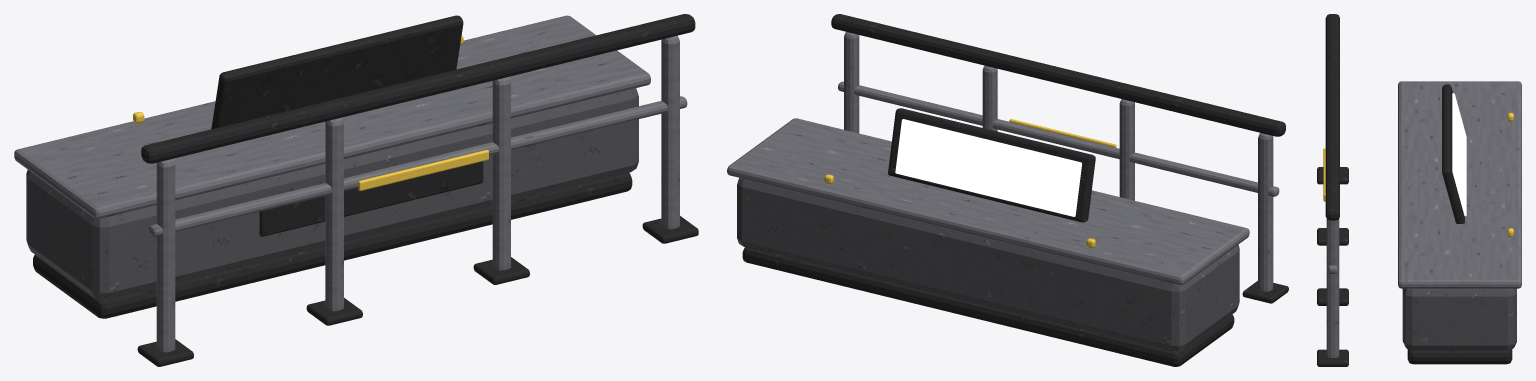
Rendered from decor_bridge_tactical_rail.glb.
The picture shows the model from 3 angles, left to right: view 1: azimuth 30°, elevation 25°; view 2: azimuth 150°, elevation 25°; view 3: azimuth 270°, elevation 25°; orthographic projection. The views are drawn at different scales.
Parts seen in each view (by area): view 1: DEC_BridgeTacticalRail__Plinth_Body, DEC_BridgeTacticalRail__Plinth_Top, DEC_BridgeTacticalRail__Repeater_Bezel, DEC_BridgeTacticalRail__Rail_Top, DEC_BridgeTacticalRail__Plinth_Kick, DEC_BridgeTacticalRail__Rail_Mid, DEC_BridgeTacticalRail__Plinth_Vent, DEC_BridgeTacticalRail__Stanchion_-136, DEC_BridgeTacticalRail__Stanchion_136, DEC_BridgeTacticalRail__Stanchion_-45, DEC_BridgeTacticalRail__Stanchion_45, DEC_BridgeTacticalRail__Rail_Hazard (+4 smaller); view 2: DEC_BridgeTacticalRail__Plinth_Body, DEC_BridgeTacticalRail__Plinth_Top, DEC_BridgeTacticalRail__Repeater_Glow, DEC_BridgeTacticalRail__Rail_Top, DEC_BridgeTacticalRail__Plinth_Kick, DEC_BridgeTacticalRail__Rail_Mid, DEC_BridgeTacticalRail__Repeater_Bezel, DEC_BridgeTacticalRail__Stanchion_-136, DEC_BridgeTacticalRail__Stanchion_-45, DEC_BridgeTacticalRail__Stanchion_136, DEC_BridgeTacticalRail__Stanchion_45, DEC_BridgeTacticalRail__Stanchion_Foot_-136; view 3: DEC_BridgeTacticalRail__Plinth_Top, DEC_BridgeTacticalRail__Plinth_Body, DEC_BridgeTacticalRail__Rail_Top, DEC_BridgeTacticalRail__Stanchion_136, DEC_BridgeTacticalRail__Plinth_Kick, DEC_BridgeTacticalRail__Repeater_Bezel, DEC_BridgeTacticalRail__Repeater_Glow, DEC_BridgeTacticalRail__Stanchion_Foot_136, DEC_BridgeTacticalRail__Stanchion_Foot_45, DEC_BridgeTacticalRail__Stanchion_Foot_-45, DEC_BridgeTacticalRail__Stanchion_Foot_-136.
Boxes of the visible parts, x1,y1,x2,y2 form: DEC_BridgeTacticalRail__Plinth_Body: (26,88,638,299); DEC_BridgeTacticalRail__Plinth_Top: (14,15,650,218); DEC_BridgeTacticalRail__Repeater_Bezel: (211,15,463,129); DEC_BridgeTacticalRail__Rail_Top: (141,14,695,163); DEC_BridgeTacticalRail__Plinth_Kick: (33,172,632,318); DEC_BridgeTacticalRail__Rail_Mid: (149,96,687,236); DEC_BridgeTacticalRail__Plinth_Vent: (259,161,483,236); DEC_BridgeTacticalRail__Stanchion_-136: (156,159,175,352); DEC_BridgeTacticalRail__Stanchion_136: (661,35,679,229); DEC_BridgeTacticalRail__Stanchion_-45: (325,117,343,311); DEC_BridgeTacticalRail__Stanchion_45: (492,77,510,270); DEC_BridgeTacticalRail__Rail_Hazard: (358,150,488,190); DEC_BridgeTacticalRail__Plinth_Body: (737,178,1239,351); DEC_BridgeTacticalRail__Plinth_Top: (727,118,1249,285); DEC_BridgeTacticalRail__Repeater_Glow: (895,119,1081,216); DEC_BridgeTacticalRail__Rail_Top: (831,14,1285,136); DEC_BridgeTacticalRail__Plinth_Kick: (742,247,1234,366); DEC_BridgeTacticalRail__Rail_Mid: (838,81,1279,196); DEC_BridgeTacticalRail__Repeater_Bezel: (888,108,1095,222); DEC_BridgeTacticalRail__Stanchion_-136: (1258,133,1273,291); DEC_BridgeTacticalRail__Stanchion_-45: (1119,99,1134,200); DEC_BridgeTacticalRail__Stanchion_136: (844,32,859,133); DEC_BridgeTacticalRail__Stanchion_45: (982,65,997,131); DEC_BridgeTacticalRail__Stanchion_Foot_-136: (1242,281,1288,303); DEC_BridgeTacticalRail__Plinth_Top: (1398,81,1521,288); DEC_BridgeTacticalRail__Plinth_Body: (1402,288,1516,350); DEC_BridgeTacticalRail__Rail_Top: (1325,14,1339,220); DEC_BridgeTacticalRail__Stanchion_136: (1326,219,1339,357); DEC_BridgeTacticalRail__Plinth_Kick: (1407,349,1512,364); DEC_BridgeTacticalRail__Repeater_Bezel: (1442,84,1464,223); DEC_BridgeTacticalRail__Repeater_Glow: (1452,93,1466,216); DEC_BridgeTacticalRail__Stanchion_Foot_136: (1317,349,1348,366); DEC_BridgeTacticalRail__Stanchion_Foot_45: (1317,288,1348,305); DEC_BridgeTacticalRail__Stanchion_Foot_-45: (1317,228,1348,245); DEC_BridgeTacticalRail__Stanchion_Foot_-136: (1317,167,1348,184).
Bounding box in the file's own units: 3 × 1.1 × 1.29.
Materials: 6 (3 with a texture image).
